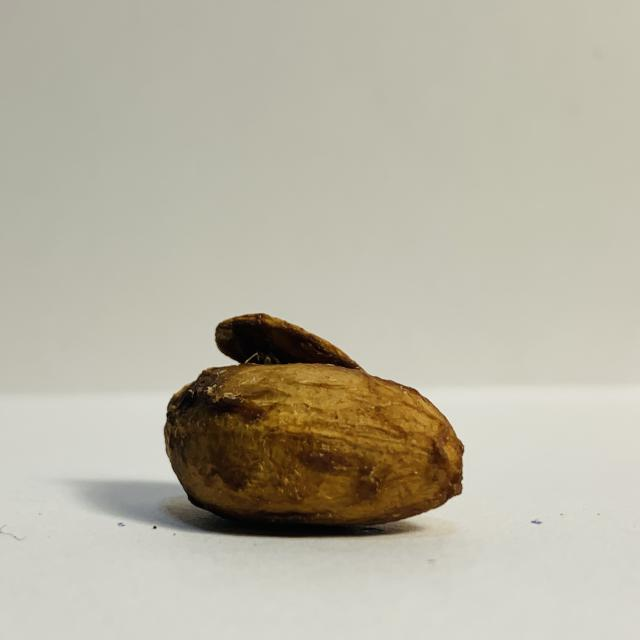Agglomerated_cocoabeans: (71, 282, 549, 574)
